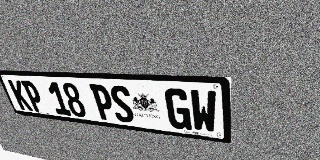1: (45, 82, 72, 116)
8: (60, 82, 87, 118)
G: (164, 88, 192, 130)
K: (7, 80, 33, 111)
P: (89, 84, 116, 121), (20, 80, 46, 113)
S: (108, 85, 136, 124)
W: (189, 89, 217, 134)
